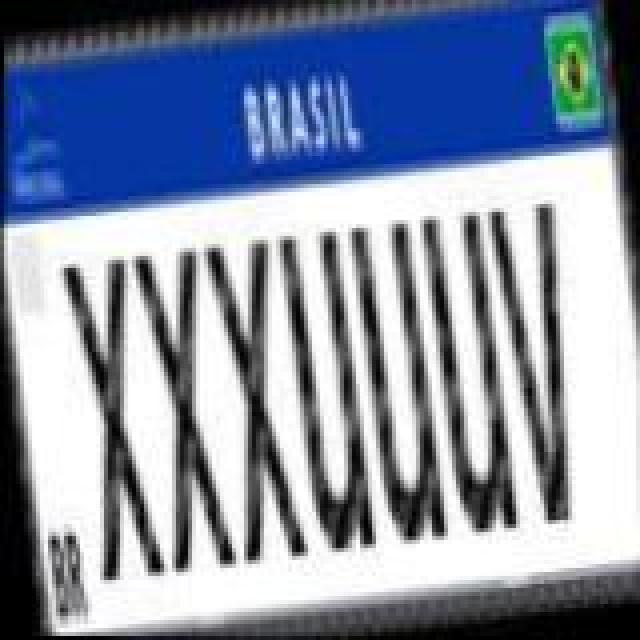U: (272, 222, 384, 558), (414, 208, 526, 544), (342, 216, 450, 552)
V: (484, 198, 600, 530)
X: (54, 252, 170, 588), (126, 244, 242, 580), (198, 232, 314, 568)
